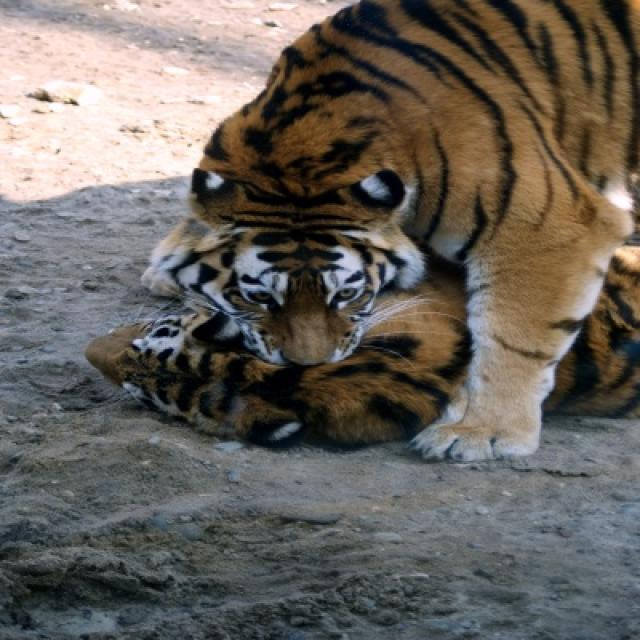Tiger: (96, 0, 638, 466)
